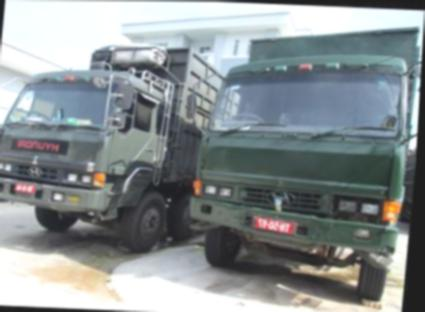License_Plate: (254, 213, 297, 236), (13, 182, 36, 194)
